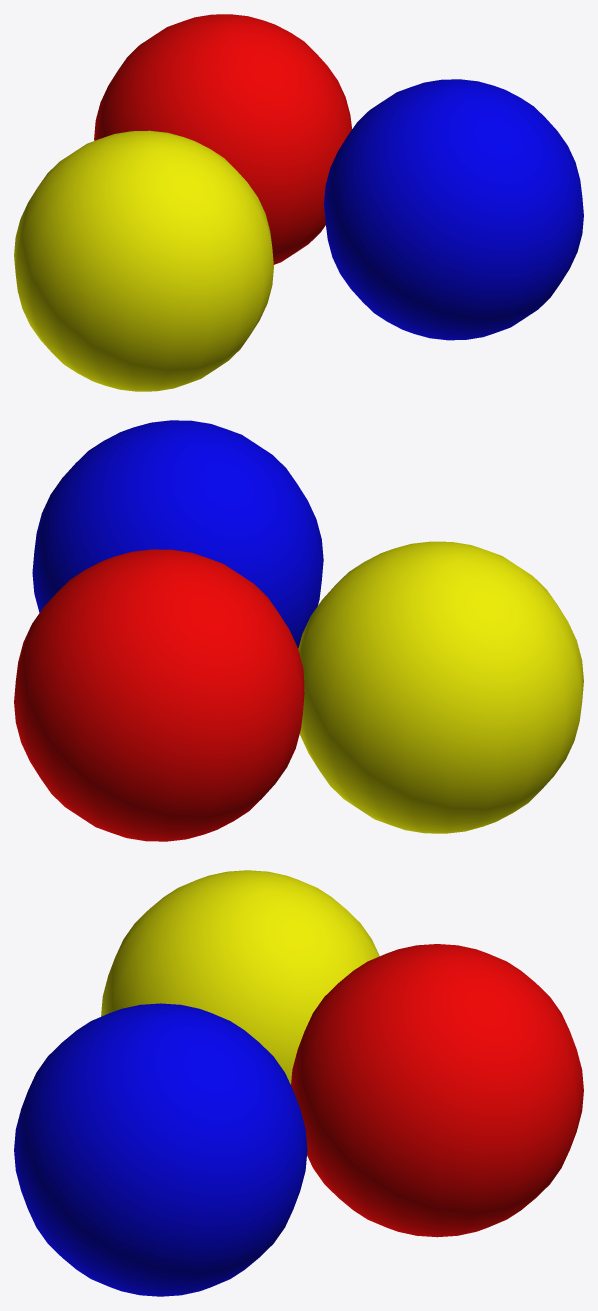
Rendered from toy balls.fbx.
3 views of the same model, one above another, from view 1: azimuth 30°, elevation 25°; view 2: azimuth 150°, elevation 25°; view 3: azimuth 270°, elevation 25° (orthographic). The views are drawn at different scales.
Visible parts, largest first — view 1: pasted__pSphere1; view 2: pasted__pSphere1; view 3: pasted__pSphere1.
Part boxes in pixels (x1,y1,x2,y2): pasted__pSphere1: [14, 14, 583, 391]; pasted__pSphere1: [14, 420, 583, 841]; pasted__pSphere1: [14, 870, 583, 1296].
Bounding box in the file's own units: 1.14 × 0.5487 × 1.
